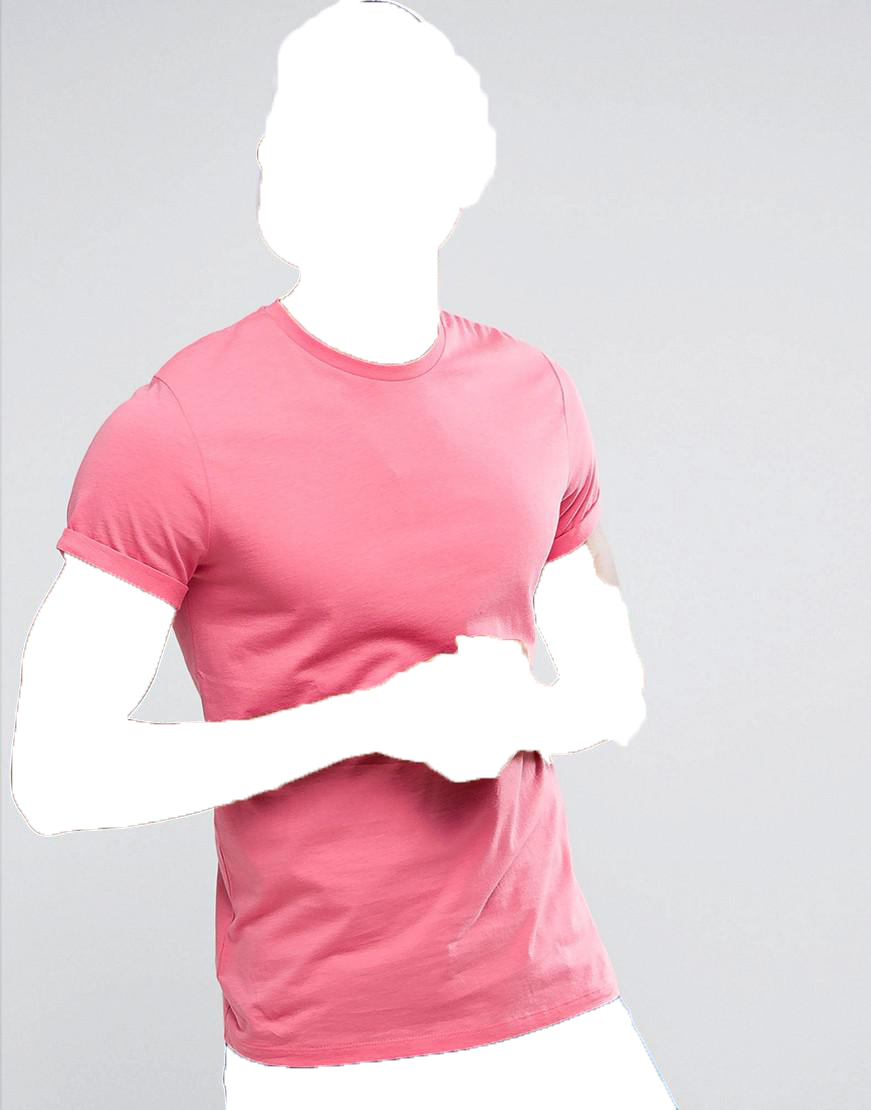teeshirt: (54, 296, 651, 1057)
